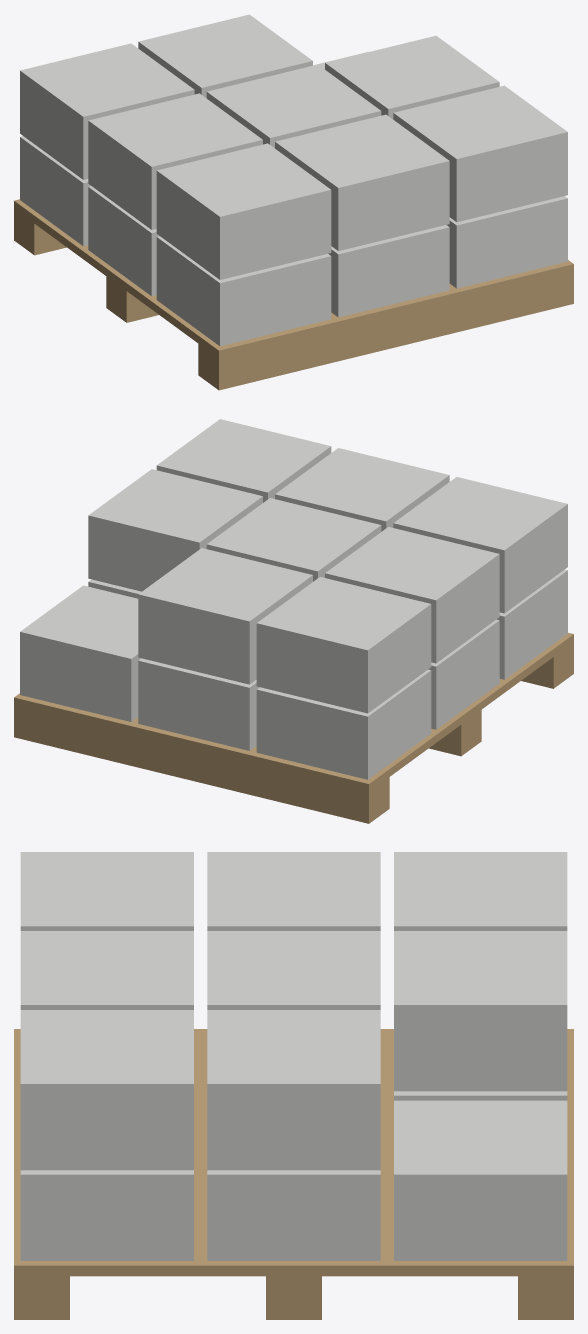
The model's file is pallet_mp_17.glb.
The picture shows the model from 3 angles, top to bottom: view 1: azimuth 30°, elevation 25°; view 2: azimuth 150°, elevation 25°; view 3: azimuth 270°, elevation 25°; orthographic projection. The views are drawn at different scales.
Parts seen in each view (by area): view 1: PalletMP; view 2: PalletMP; view 3: PalletMP.
Boxes of the visible parts, box(x1,y1,x2,y2) form: PalletMP: box(14, 14, 573, 390); PalletMP: box(14, 419, 573, 823); PalletMP: box(14, 852, 573, 1319).
Bounding box in the file's own units: 1 × 0.46 × 1.
